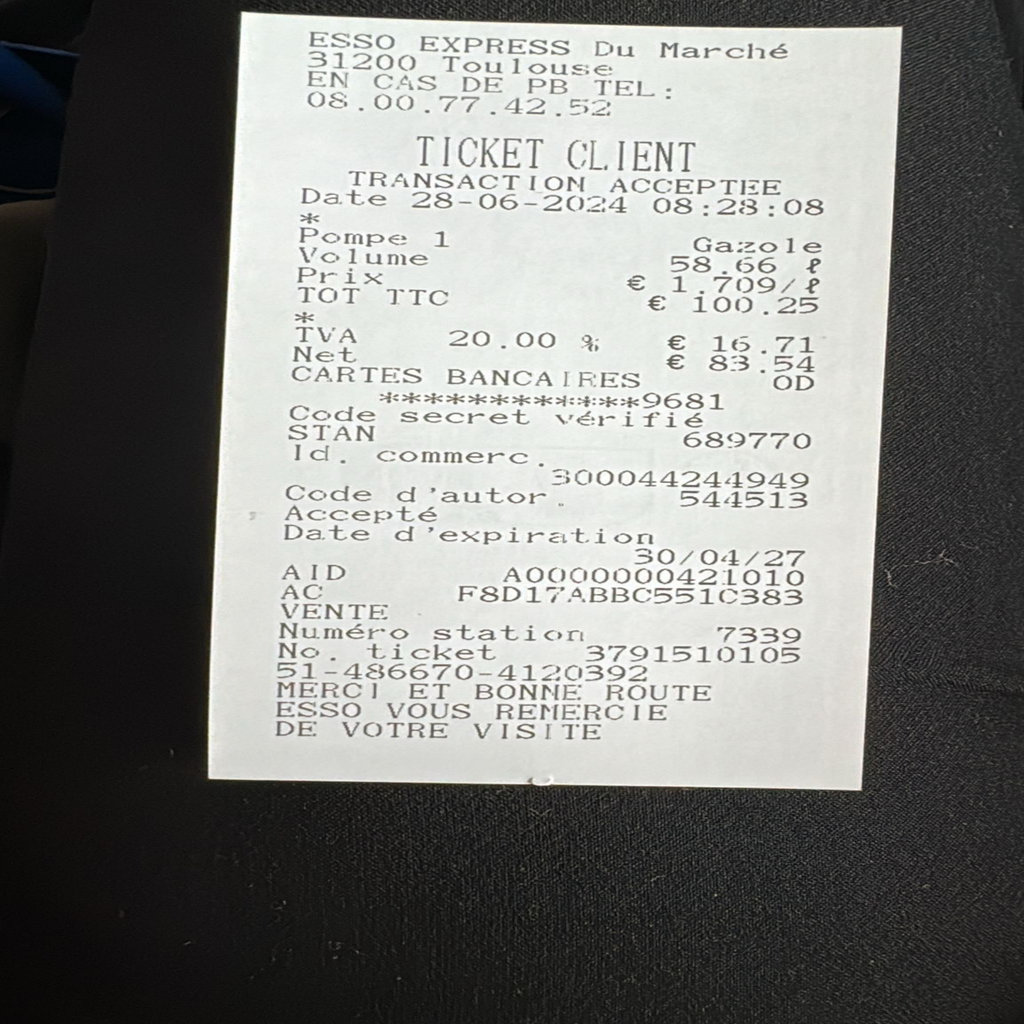recipt: (208, 8, 902, 789)
